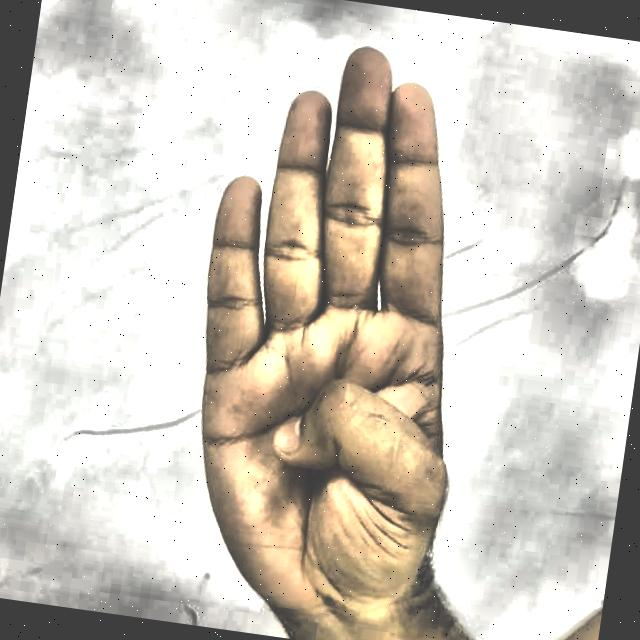Ba: (120, 13, 555, 640)
